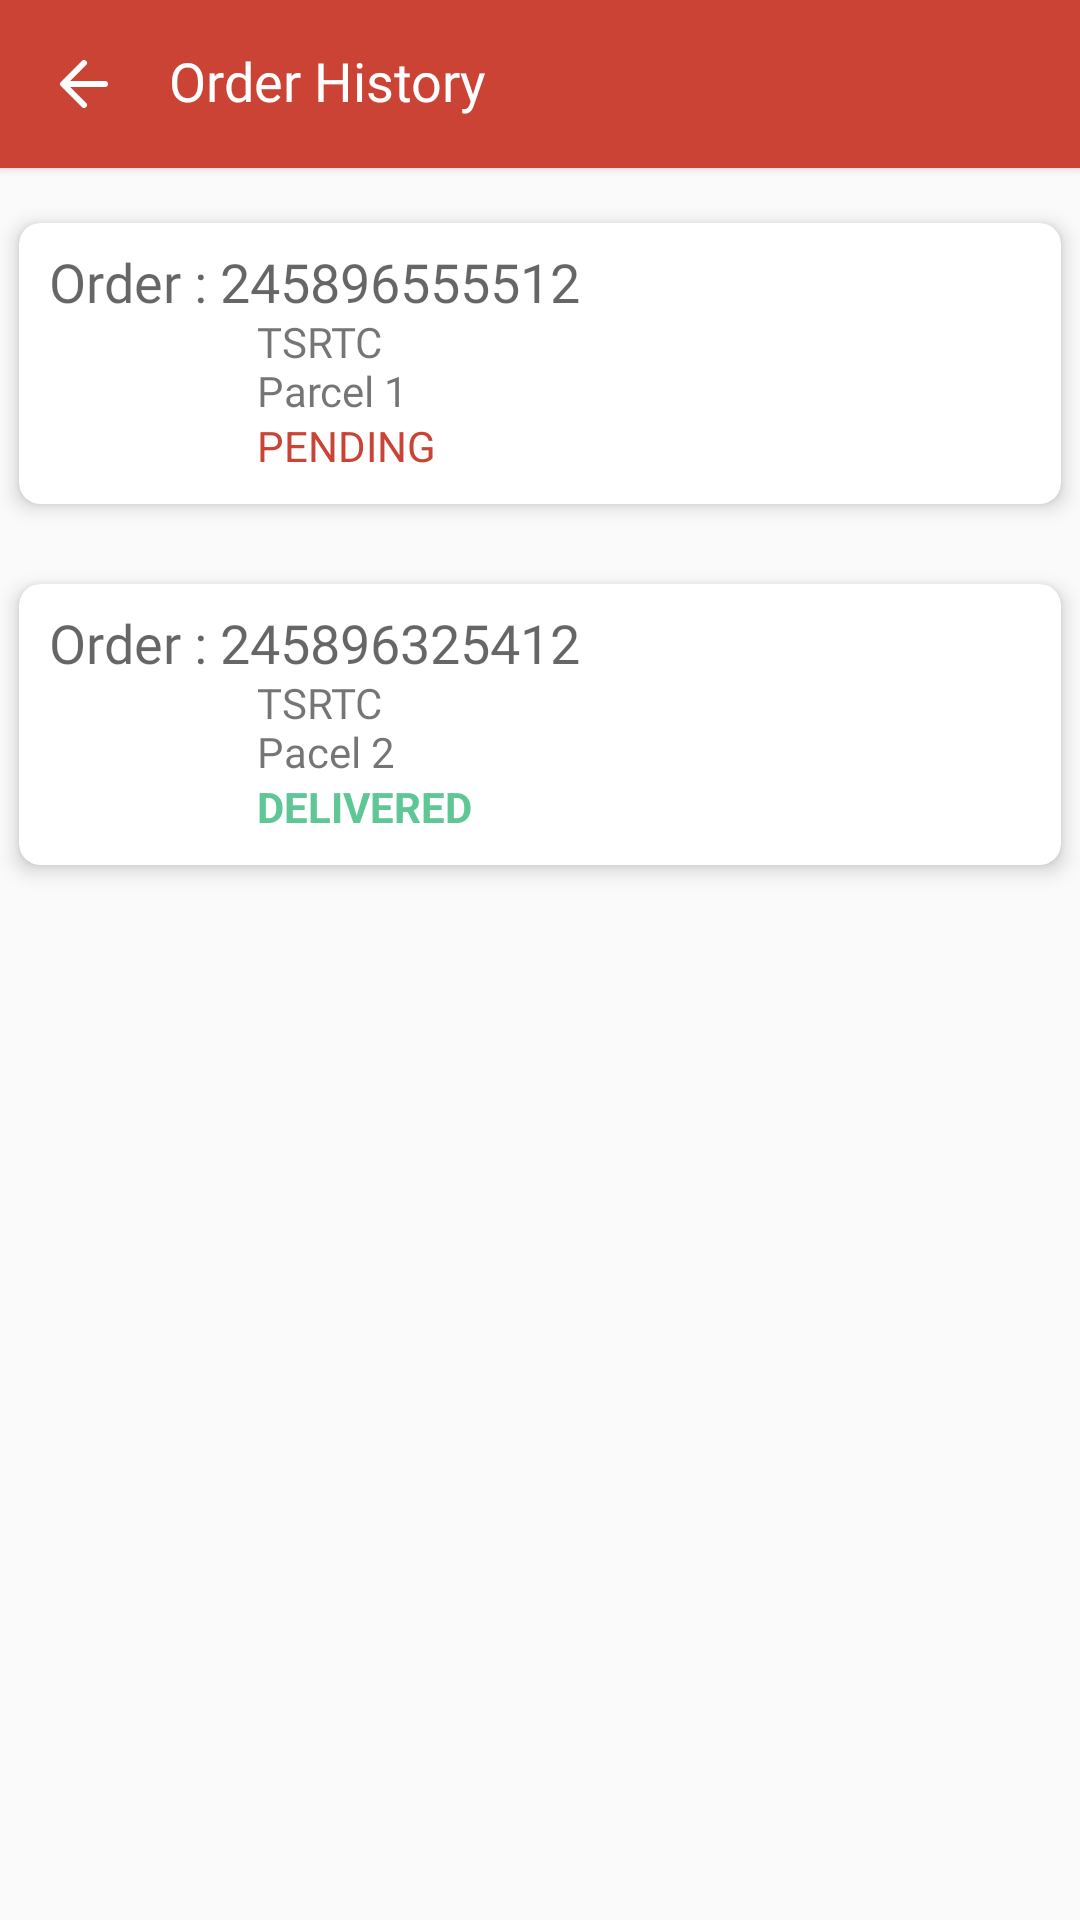

Point at icon controls on the screen. Image size 1080px x 1920px, points as (x,y).
arrow left: (84,84)
